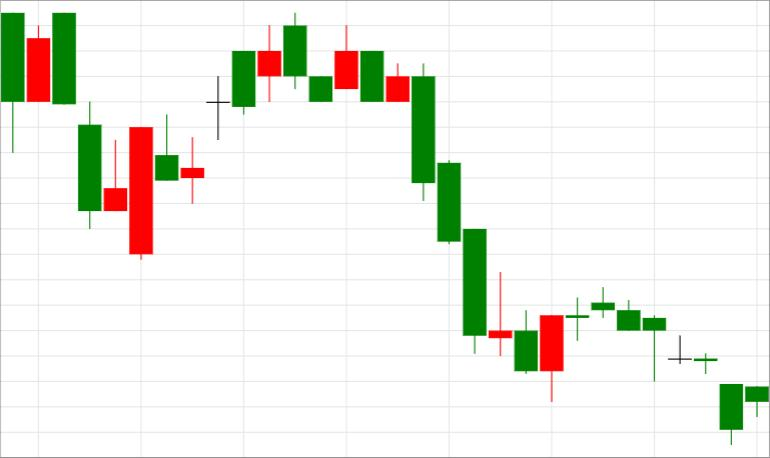bullish_engulfing_rise: (411, 62, 564, 403)
